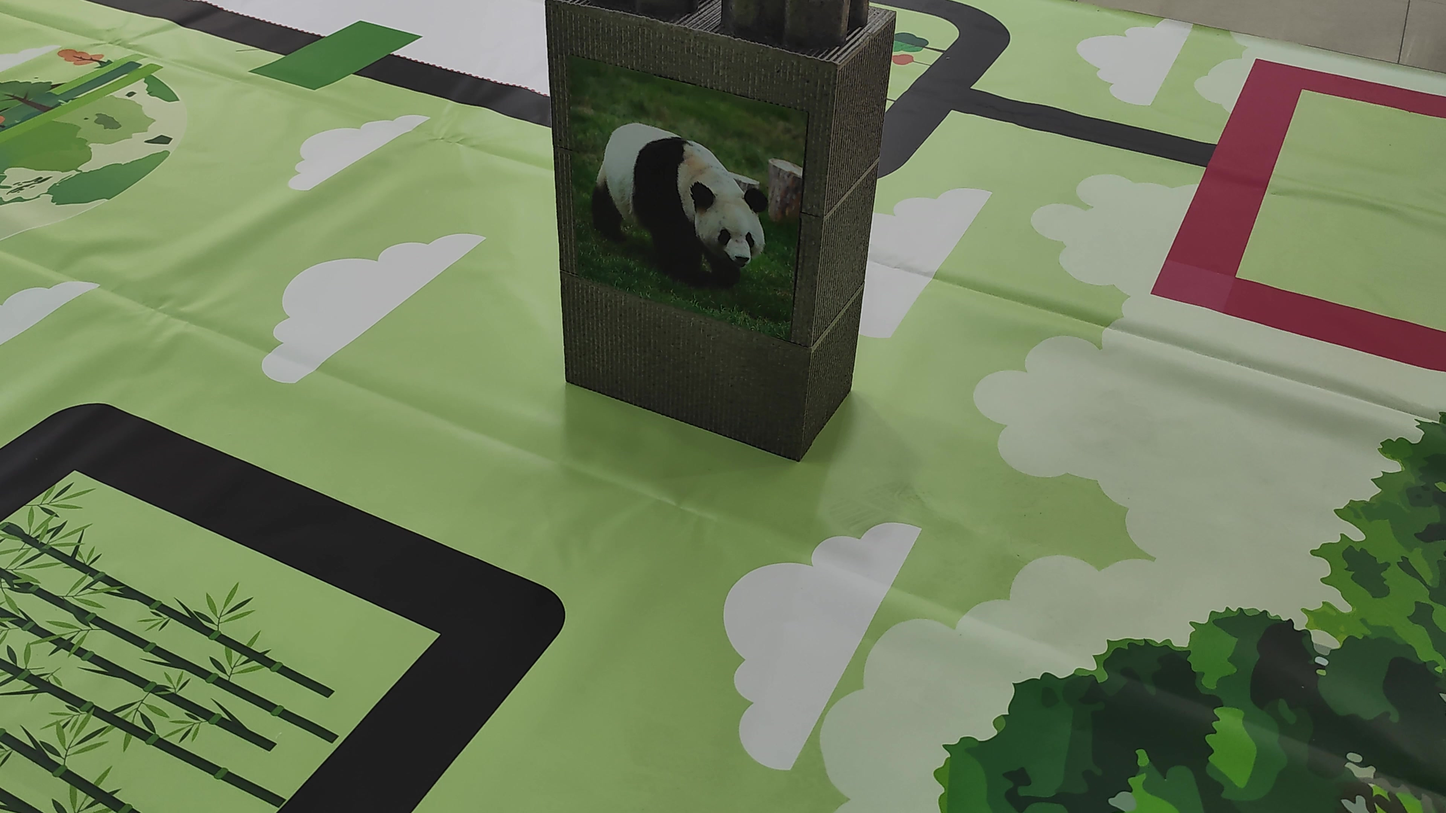panda: (569, 82, 787, 312)
